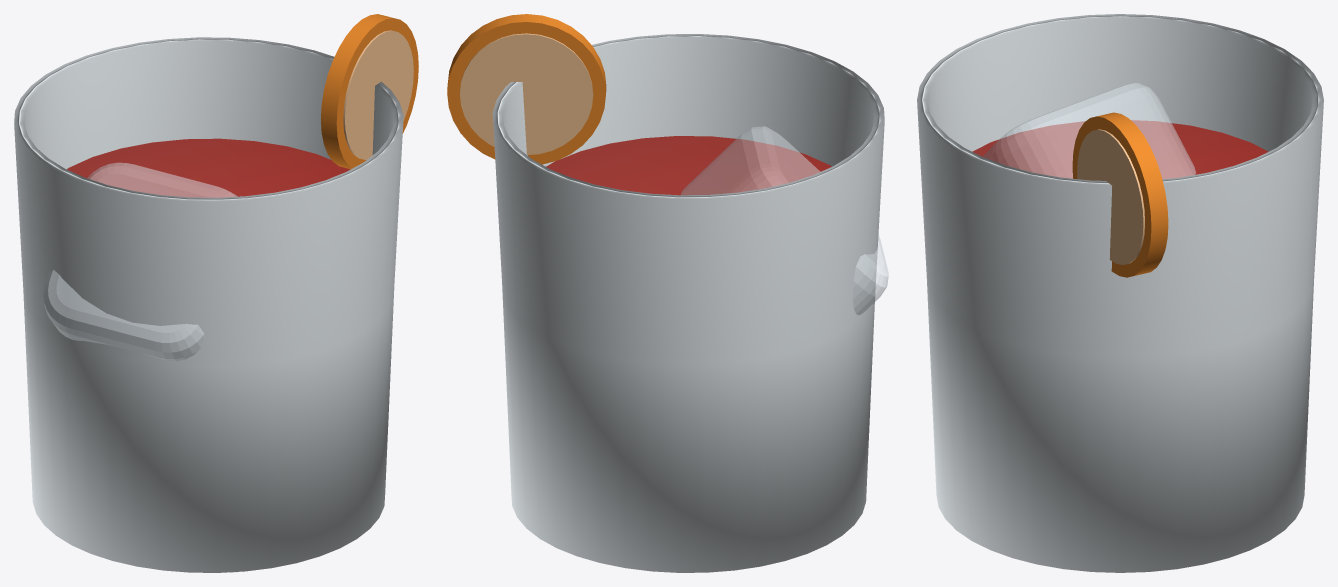
Rendered from cocktail-americano.glb.
3 renders of one model, left to right at view 1: azimuth 30°, elevation 25°; view 2: azimuth 150°, elevation 25°; view 3: azimuth 270°, elevation 25°, orthographic. The views are drawn at different scales.
Bounding box in the file's own units: 0.0998 × 0.1113 × 0.084.
